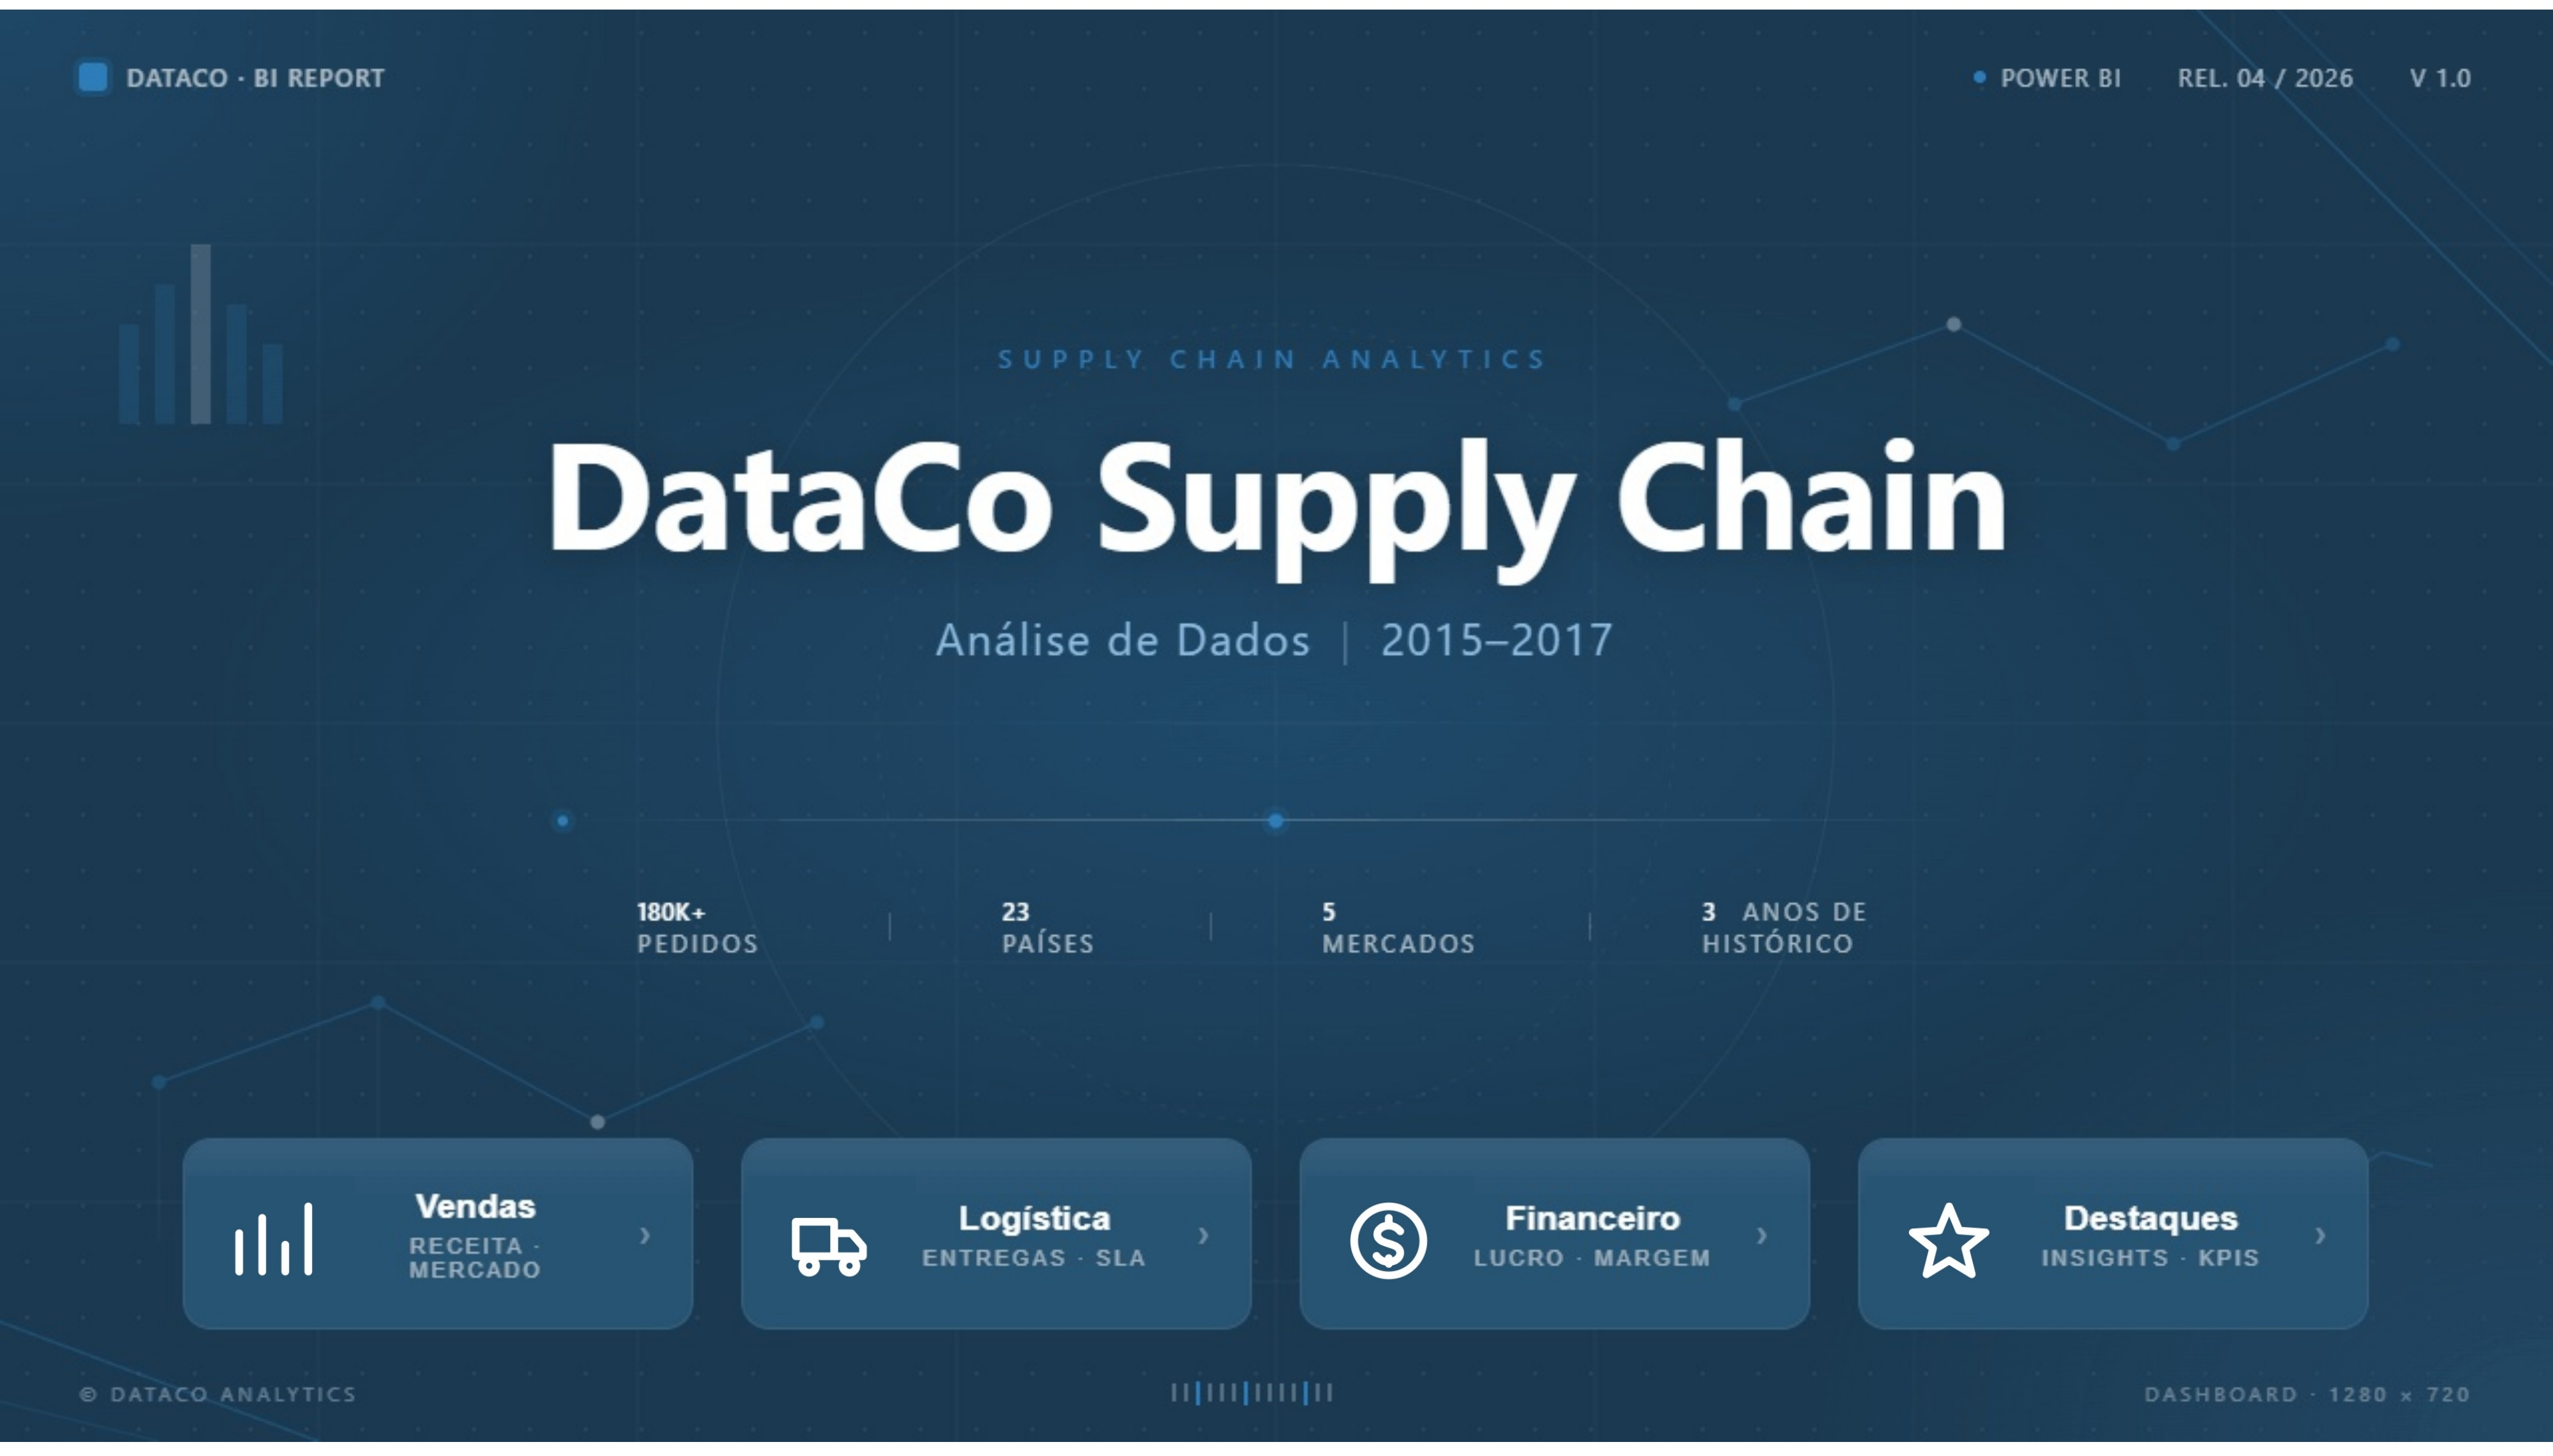

What the dashboard file says about the page in this screenshot:
{"tool":"powerbi","page":{"name":"Capa","canvas":[1280,720],"ordinal":0},"visuals":[{"type":"image","box":[94.2,584.6,84.2,66.7],"z":0},{"type":"image","box":[375.4,584.6,84.2,66.7],"z":1},{"type":"image","box":[654.6,584.6,84.2,66.7],"z":2},{"type":"image","box":[935.8,584.6,84.2,66.7],"z":3}]}

Visuals, with their boxes in screenshot pixels (x1, y1, x2, y2), scaled from the page's 1280x720 canvas onto the 2553x1456 screenshot:
image: locate(188, 1182, 356, 1317)
image: locate(749, 1182, 917, 1317)
image: locate(1306, 1182, 1474, 1317)
image: locate(1866, 1182, 2035, 1317)
